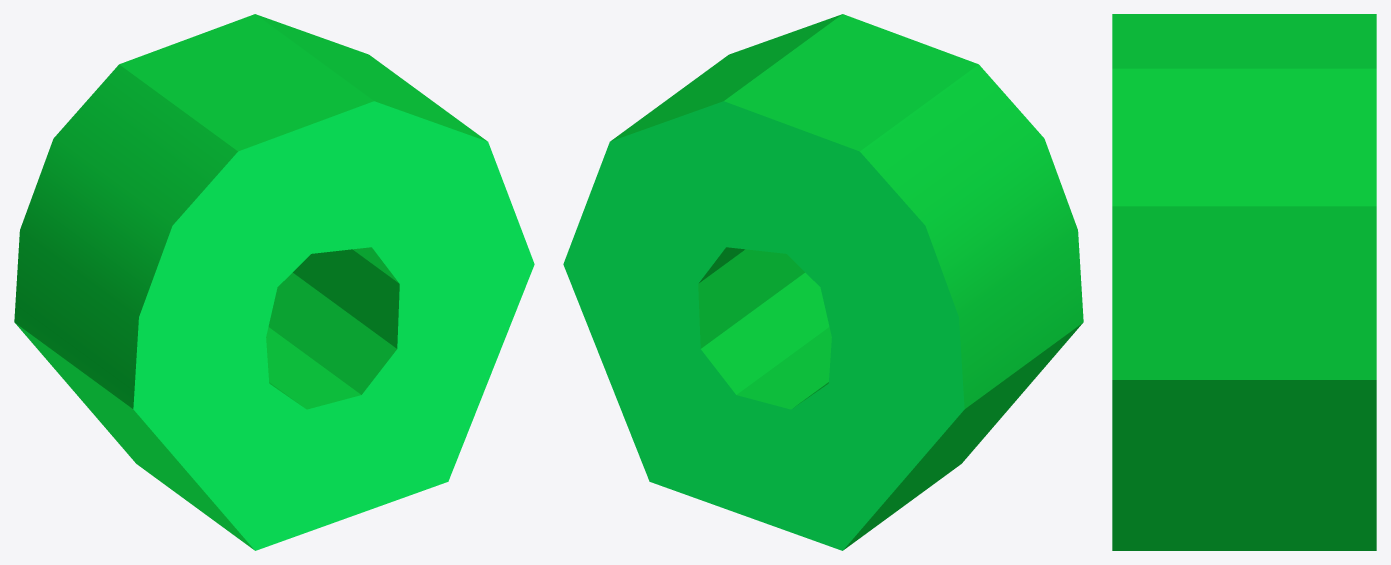
The model's file is O_Zyzol_Green.glb.
3 views of the same model, side by side, from view 1: azimuth 30°, elevation 25°; view 2: azimuth 150°, elevation 25°; view 3: azimuth 270°, elevation 25° (orthographic). The views are drawn at different scales.
Visible parts, largest first — view 1: o_Zyzol_Green; view 2: o_Zyzol_Green; view 3: o_Zyzol_Green.
Part boxes in pixels (bbox=[...]): o_Zyzol_Green: bbox=[14, 14, 534, 550]; o_Zyzol_Green: bbox=[563, 14, 1083, 550]; o_Zyzol_Green: bbox=[1112, 14, 1376, 550].
Size of what is drawn, in the model's own units: 0.0876 by 0.0877 by 0.045.
2 materials, 2 textured.
